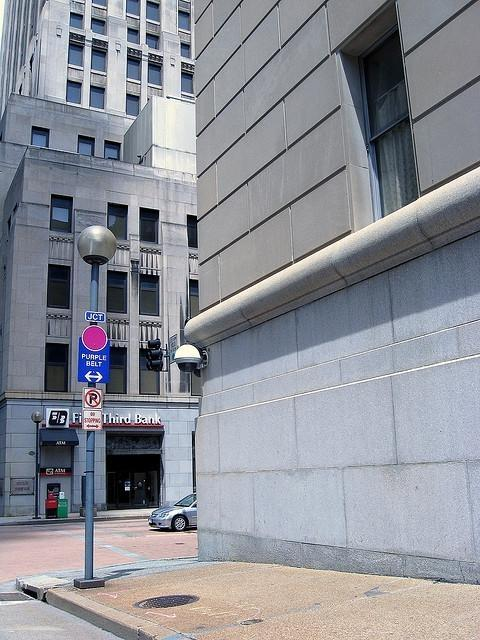car: (144, 492, 198, 530)
